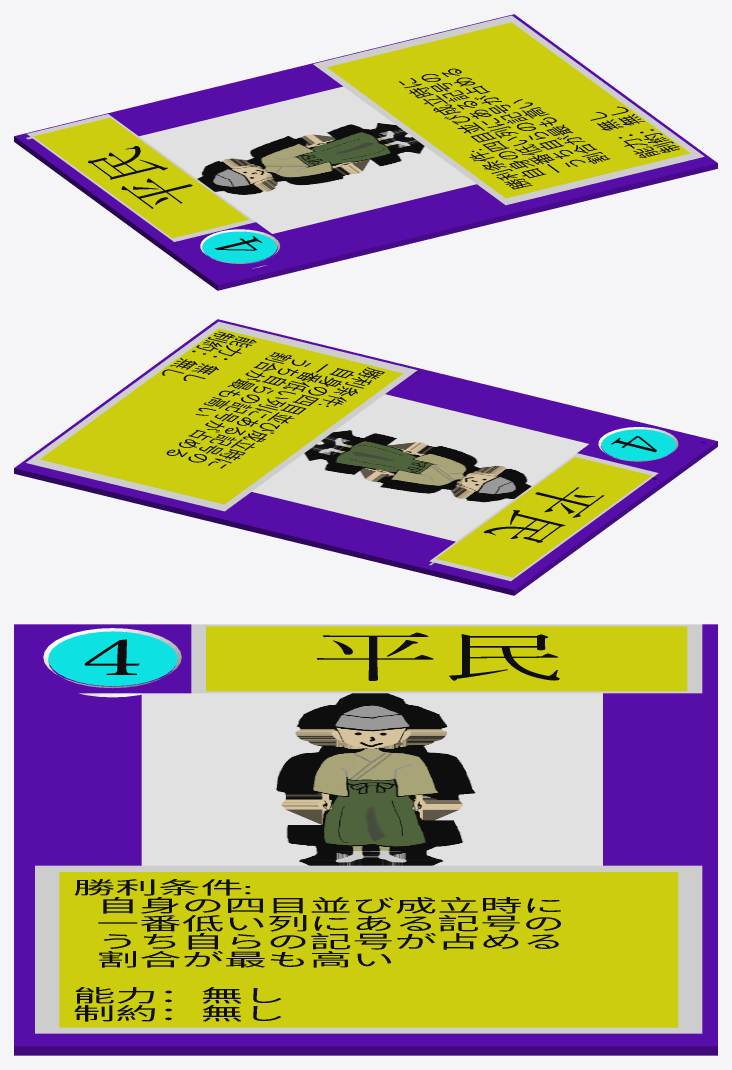
The model's file is 平民紫.fbx.
3 renders of one model, top to bottom at view 1: azimuth 30°, elevation 25°; view 2: azimuth 150°, elevation 25°; view 3: azimuth 270°, elevation 25°, orthographic. The views are drawn at different scales.
Visible parts, largest first — view 1: 説明欄, 平面.001, カード本体.001, 名前欄, 説明文, 円, 平面, 名前; view 2: 説明欄, 平面.001, カード本体.001, 名前欄, 説明文, 円, 平面, 名前; view 3: 説明欄, 平面.001, カード本体.001, 名前欄, 説明文, 平面, 円, 名前, コスト蘭.
Part boxes in pixels (x1,y1,x2,y2): 説明欄: (313,15,704,205); 平面.001: (139,86,476,233); カード本体.001: (14,14,717,290); 名前欄: (27,114,255,241); 説明文: (399,68,679,189); 円: (202,231,276,262); 平面: (174,222,302,275); 名前: (88,146,192,208); 説明欄: (26,321,417,511); 平面.001: (252,394,588,541); カード本体.001: (14,319,717,595); 名前欄: (429,453,658,581); 説明文: (162,331,384,468); 円: (601,429,675,460); 平面: (577,419,704,472); 名前: (483,487,604,542); 説明欄: (35,865,702,1033); 平面.001: (141,693,602,865); カード本体.001: (14,624,717,1055); 名前欄: (191,624,702,693); 説明文: (74,879,560,1021); 平面: (30,624,191,693); 円: (48,631,177,686); 名前: (317,632,559,680); コスト蘭: (43,628,181,697).
Bounding box in the file's own units: 281 × 6.07 × 198.
